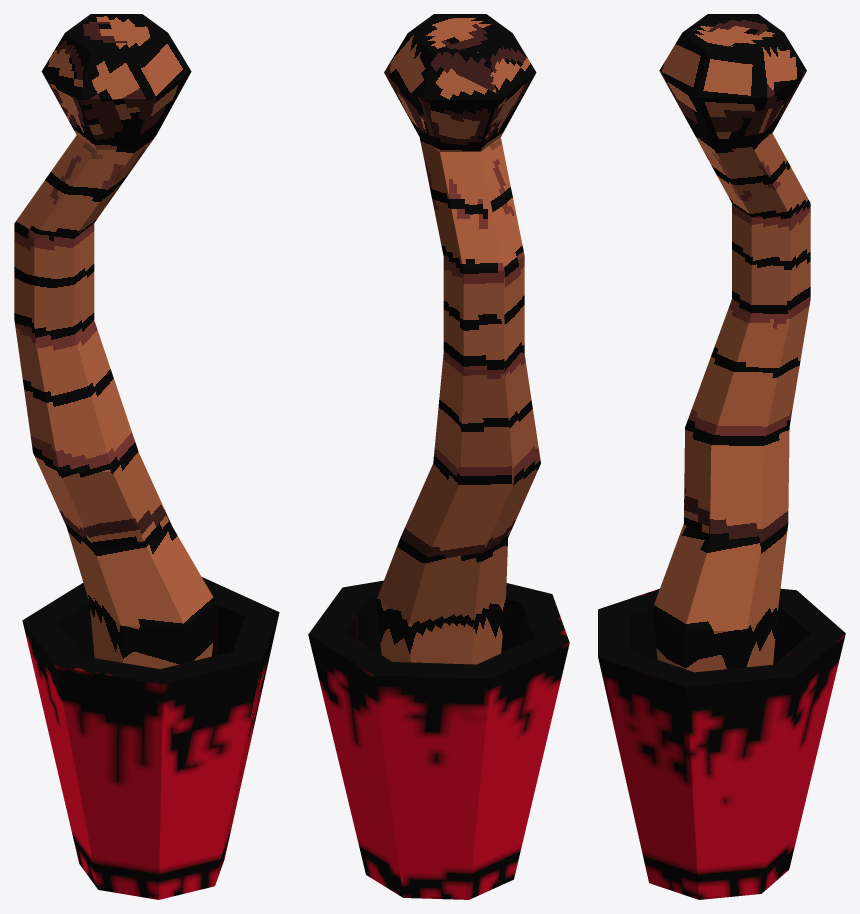
Rendered from low_poly_palm_base.glb.
The picture shows the model from 3 angles, left to right: view 1: azimuth 30°, elevation 25°; view 2: azimuth 150°, elevation 25°; view 3: azimuth 270°, elevation 25°; orthographic projection. The views are drawn at different scales.
Parts seen in each view (by area): view 1: palm_base, pot; view 2: palm_base, pot; view 3: palm_base, pot.
Boxes of the visible parts, left/top/right/bottom form: palm_base: left=14, top=14, right=216, bottom=669; pot: left=22, top=577, right=279, bottom=899; palm_base: left=376, top=14, right=540, bottom=664; pot: left=308, top=580, right=569, bottom=899; palm_base: left=653, top=14, right=810, bottom=672; pot: left=598, top=588, right=845, bottom=899.
Size of the model in its own units: 1.95 by 6.97 by 1.9.
Materials: 2 (2 with a texture image).
